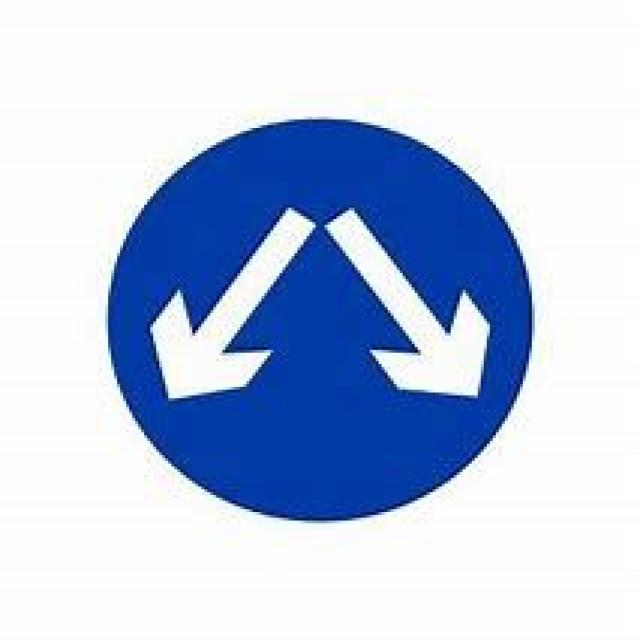no_overtaking: (105, 117, 532, 514)
